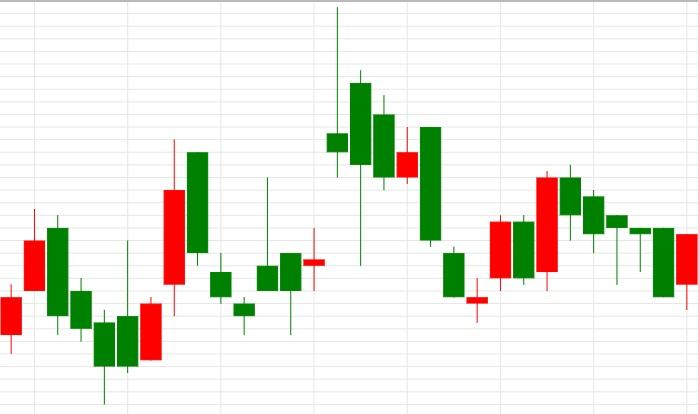morning_star_rise: (326, 7, 511, 323)
